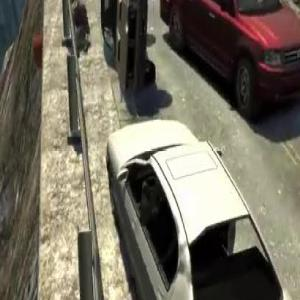severe: (97, 0, 166, 102)
